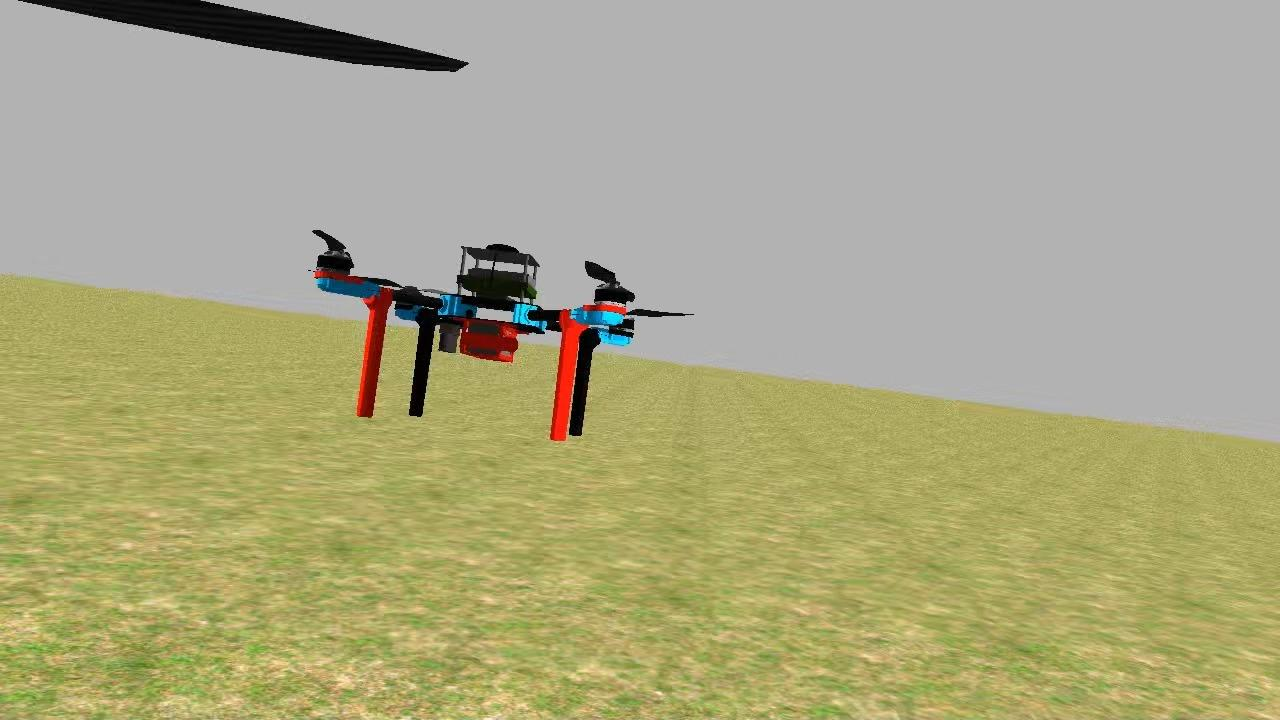UAV: (304, 222, 642, 467)
